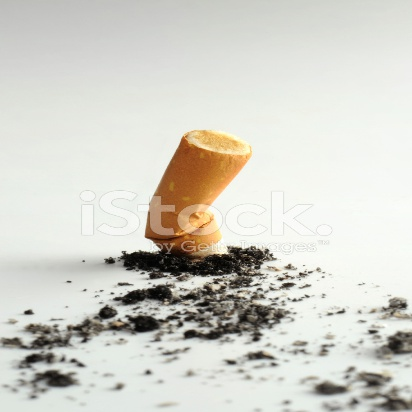cigarette: (142, 119, 255, 269)
